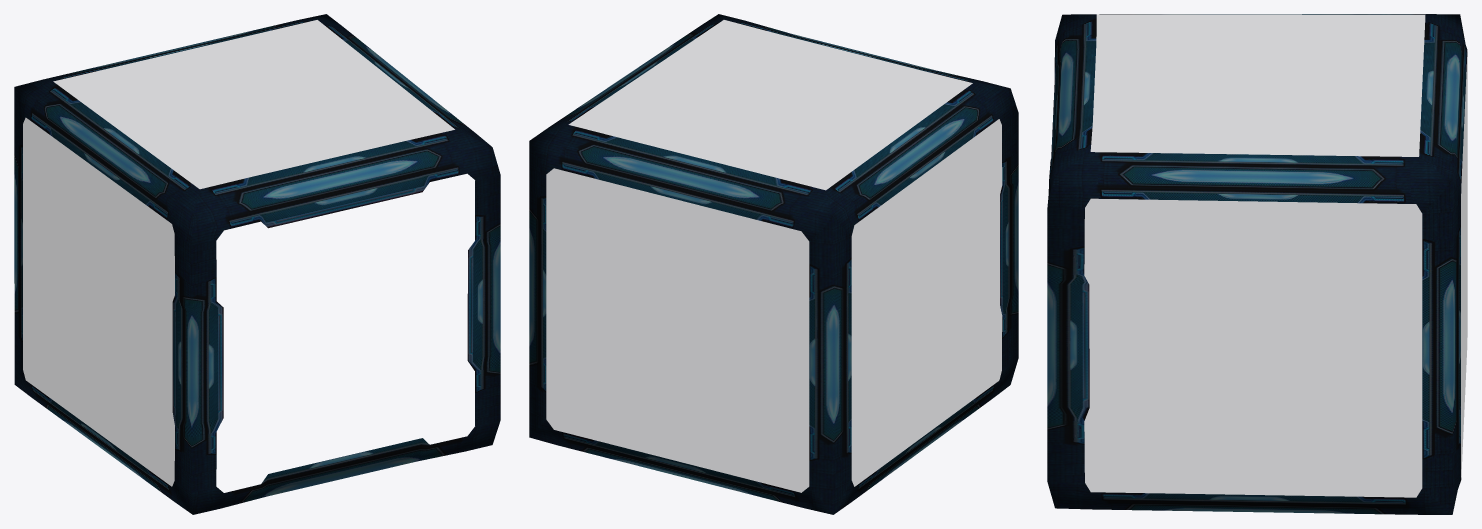
The picture shows the model from 3 angles, left to right: view 1: azimuth 30°, elevation 25°; view 2: azimuth 150°, elevation 25°; view 3: azimuth 270°, elevation 25°; orthographic projection. The views are drawn at different scales.
Visible parts, largest first — view 1: Atom_Box_11; view 2: Atom_Box_11; view 3: Atom_Box_11.
Part boxes in pixels (x1,y1,x2,y2): Atom_Box_11: [14, 14, 500, 514]; Atom_Box_11: [529, 14, 1018, 514]; Atom_Box_11: [1047, 14, 1467, 514].
Bounding box in the file's own units: 2.1 × 2.02 × 2.16.
Materials: 2 (1 with a texture image).
